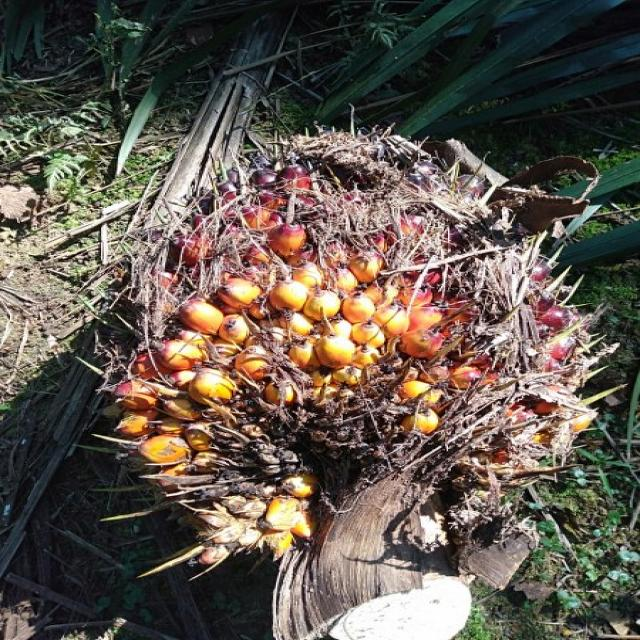fraksi 1: (83, 64, 624, 581)
